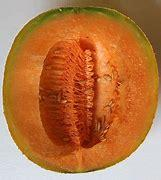Melon Ripe: (3, 7, 160, 173)
